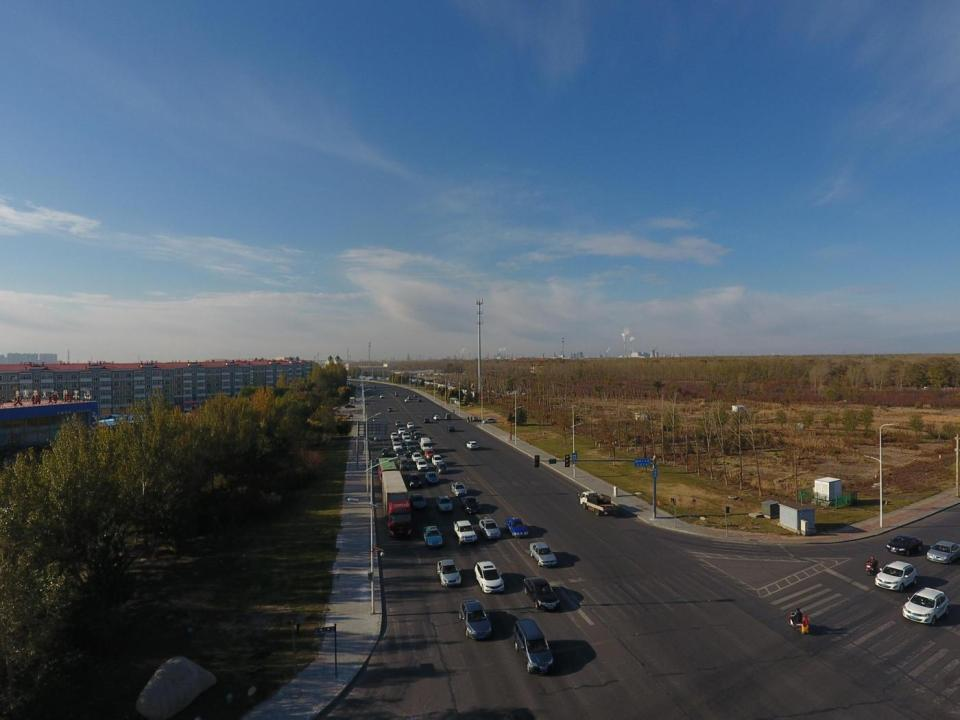bus: (378, 457, 398, 482)
car: (514, 618, 552, 674), (902, 587, 949, 625), (458, 600, 492, 640), (875, 560, 918, 591), (523, 576, 560, 612), (474, 561, 505, 594), (926, 540, 960, 565), (887, 534, 923, 555), (530, 542, 558, 568), (437, 559, 462, 588), (505, 517, 529, 538), (422, 524, 442, 548), (478, 518, 500, 539), (460, 496, 480, 515), (436, 495, 454, 514), (450, 481, 467, 498), (410, 493, 426, 510), (408, 472, 422, 488), (436, 462, 448, 474), (425, 472, 438, 483), (415, 460, 428, 471), (431, 454, 443, 465), (466, 440, 479, 450), (424, 449, 435, 459), (482, 417, 497, 424), (412, 452, 422, 462), (408, 445, 418, 455), (374, 457, 384, 467), (395, 448, 405, 456), (406, 441, 414, 450), (381, 448, 390, 456), (373, 432, 381, 441), (393, 442, 402, 450), (392, 436, 400, 445), (447, 425, 455, 433), (402, 432, 409, 441), (390, 432, 397, 440), (398, 427, 405, 435), (418, 438, 426, 445), (413, 432, 421, 439), (344, 404, 355, 409), (403, 436, 410, 443), (410, 430, 418, 436), (407, 422, 414, 428), (422, 418, 430, 423), (395, 420, 401, 426), (471, 416, 478, 421), (434, 415, 440, 420), (373, 417, 378, 422), (388, 407, 392, 412), (417, 398, 422, 402), (407, 395, 411, 399), (404, 398, 408, 402), (379, 395, 384, 398), (413, 394, 417, 397), (374, 385, 376, 388)
truck: (382, 470, 412, 537), (581, 490, 618, 516), (452, 520, 476, 543), (394, 391, 398, 396)
van: (420, 437, 433, 451), (397, 456, 408, 470), (445, 414, 451, 420)
